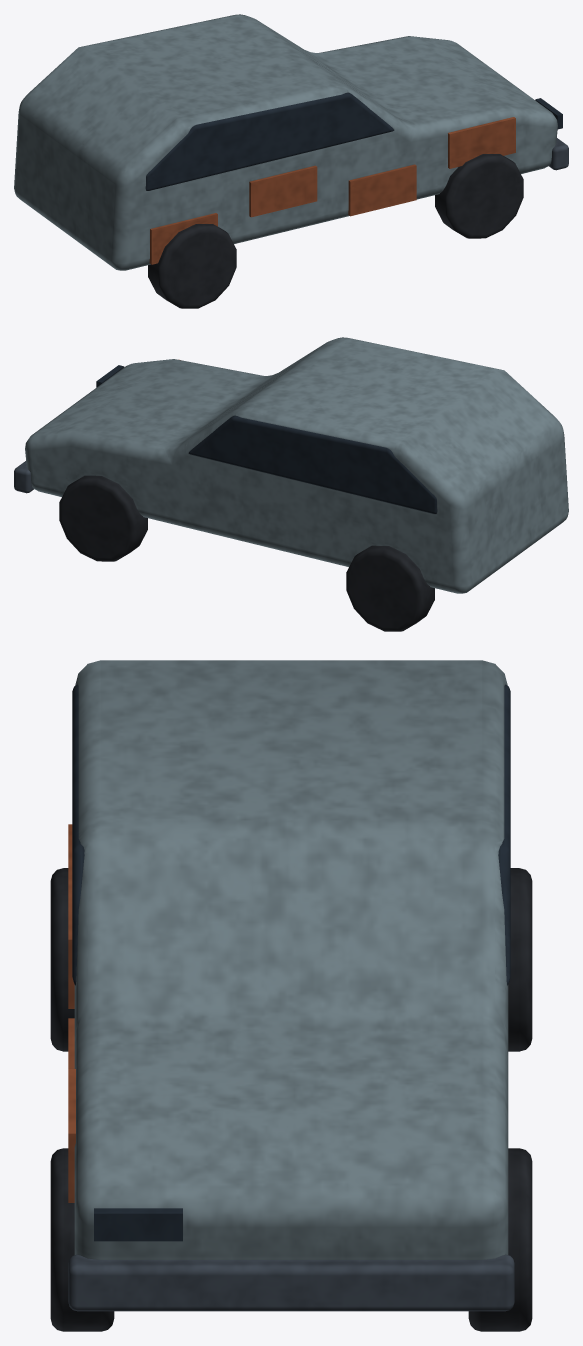
Rendered from car.glb.
The picture shows the model from 3 angles, top to bottom: view 1: azimuth 30°, elevation 25°; view 2: azimuth 150°, elevation 25°; view 3: azimuth 270°, elevation 25°; orthographic projection. The views are drawn at different scales.
Parts seen in each view (by area): view 1: Prop_car; view 2: Prop_car; view 3: Prop_car.
Boxes of the visible parts, x1,y1,x2,y2 form: Prop_car: [14, 14, 568, 308]; Prop_car: [14, 337, 568, 631]; Prop_car: [50, 660, 532, 1331].
Size of the model in its own units: 4.09 by 1.61 by 1.89.
Materials: 5 (5 with a texture image).
